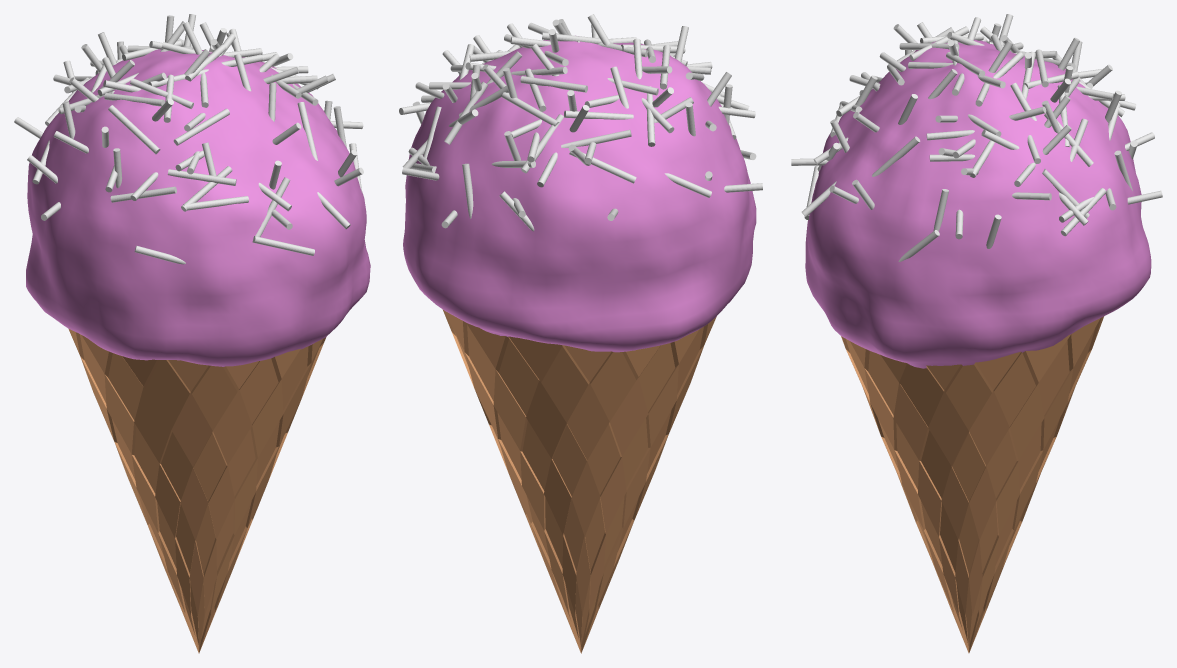
File: Ice Cream.fbx
3 renders of one model, left to right at view 1: azimuth 30°, elevation 25°; view 2: azimuth 150°, elevation 25°; view 3: azimuth 270°, elevation 25°, orthographic. The views are drawn at different scales.
Visible parts, largest first — view 1: Sphere, Cylinder, Sphere.001; view 2: Sphere, Cylinder, Sphere.001; view 3: Sphere, Cylinder, Sphere.001.
Boxes of the visible parts, x1=… form: Sphere: x1=26, y1=49, x2=370, y2=366; Cylinder: x1=68, y1=329, x2=326, y2=653; Sphere.001: x1=14, y1=14, x2=363, y2=264; Sphere: x1=403, y1=35, x2=756, y2=352; Cylinder: x1=442, y1=309, x2=716, y2=653; Sphere.001: x1=399, y1=14, x2=762, y2=231; Sphere: x1=805, y1=39, x2=1151, y2=368; Cylinder: x1=841, y1=316, x2=1103, y2=653; Sphere.001: x1=791, y1=14, x2=1162, y2=261.
Bounding box in the file's own units: 267 × 482 × 263.
